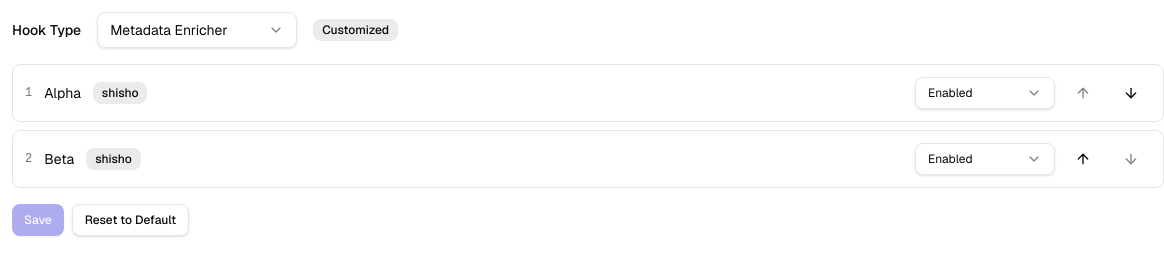
it: LibraryPluginsTab Save button › is disabled until the order changes
Expected: the button "Save" is disabled, [12, 204, 64, 236]
Click the button named "Move plugin down" in the row of "Alpha". click: (1131, 93)
box: [1111, 77, 1151, 109]
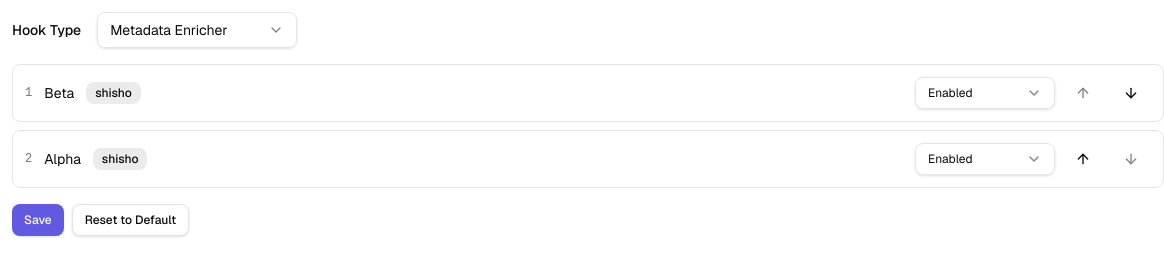
Expected: the button "Save" is enabled, [12, 204, 64, 236]
